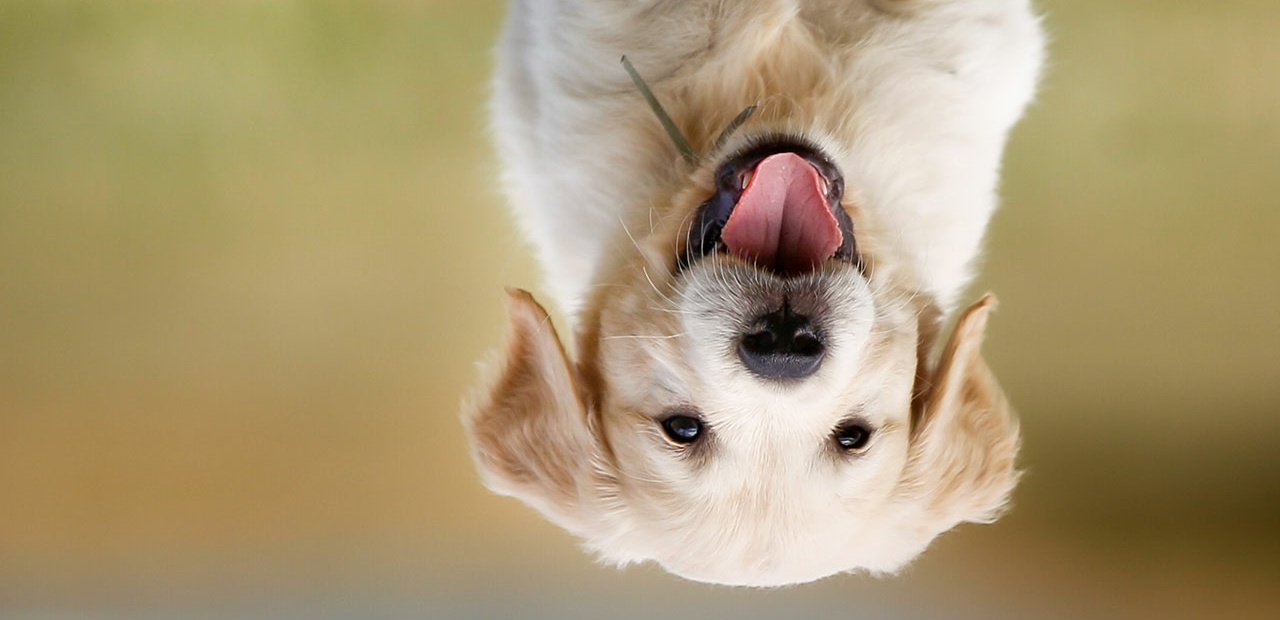dog: (468, 122, 1025, 588)
